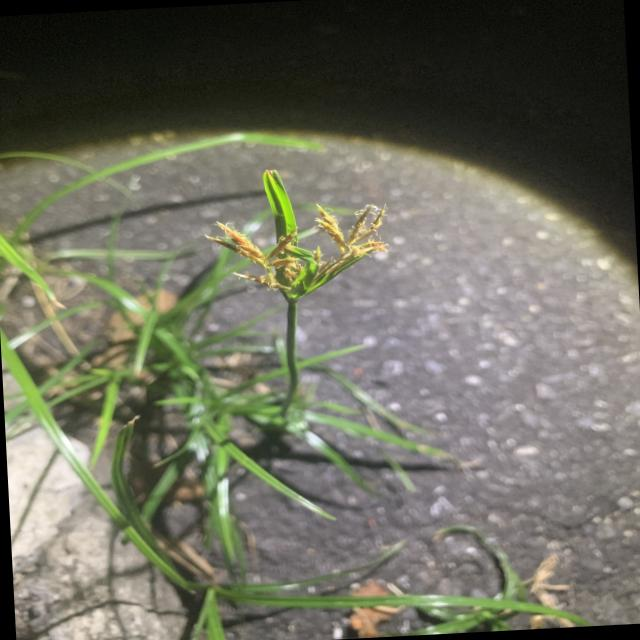cyperus: (202, 160, 408, 319)
